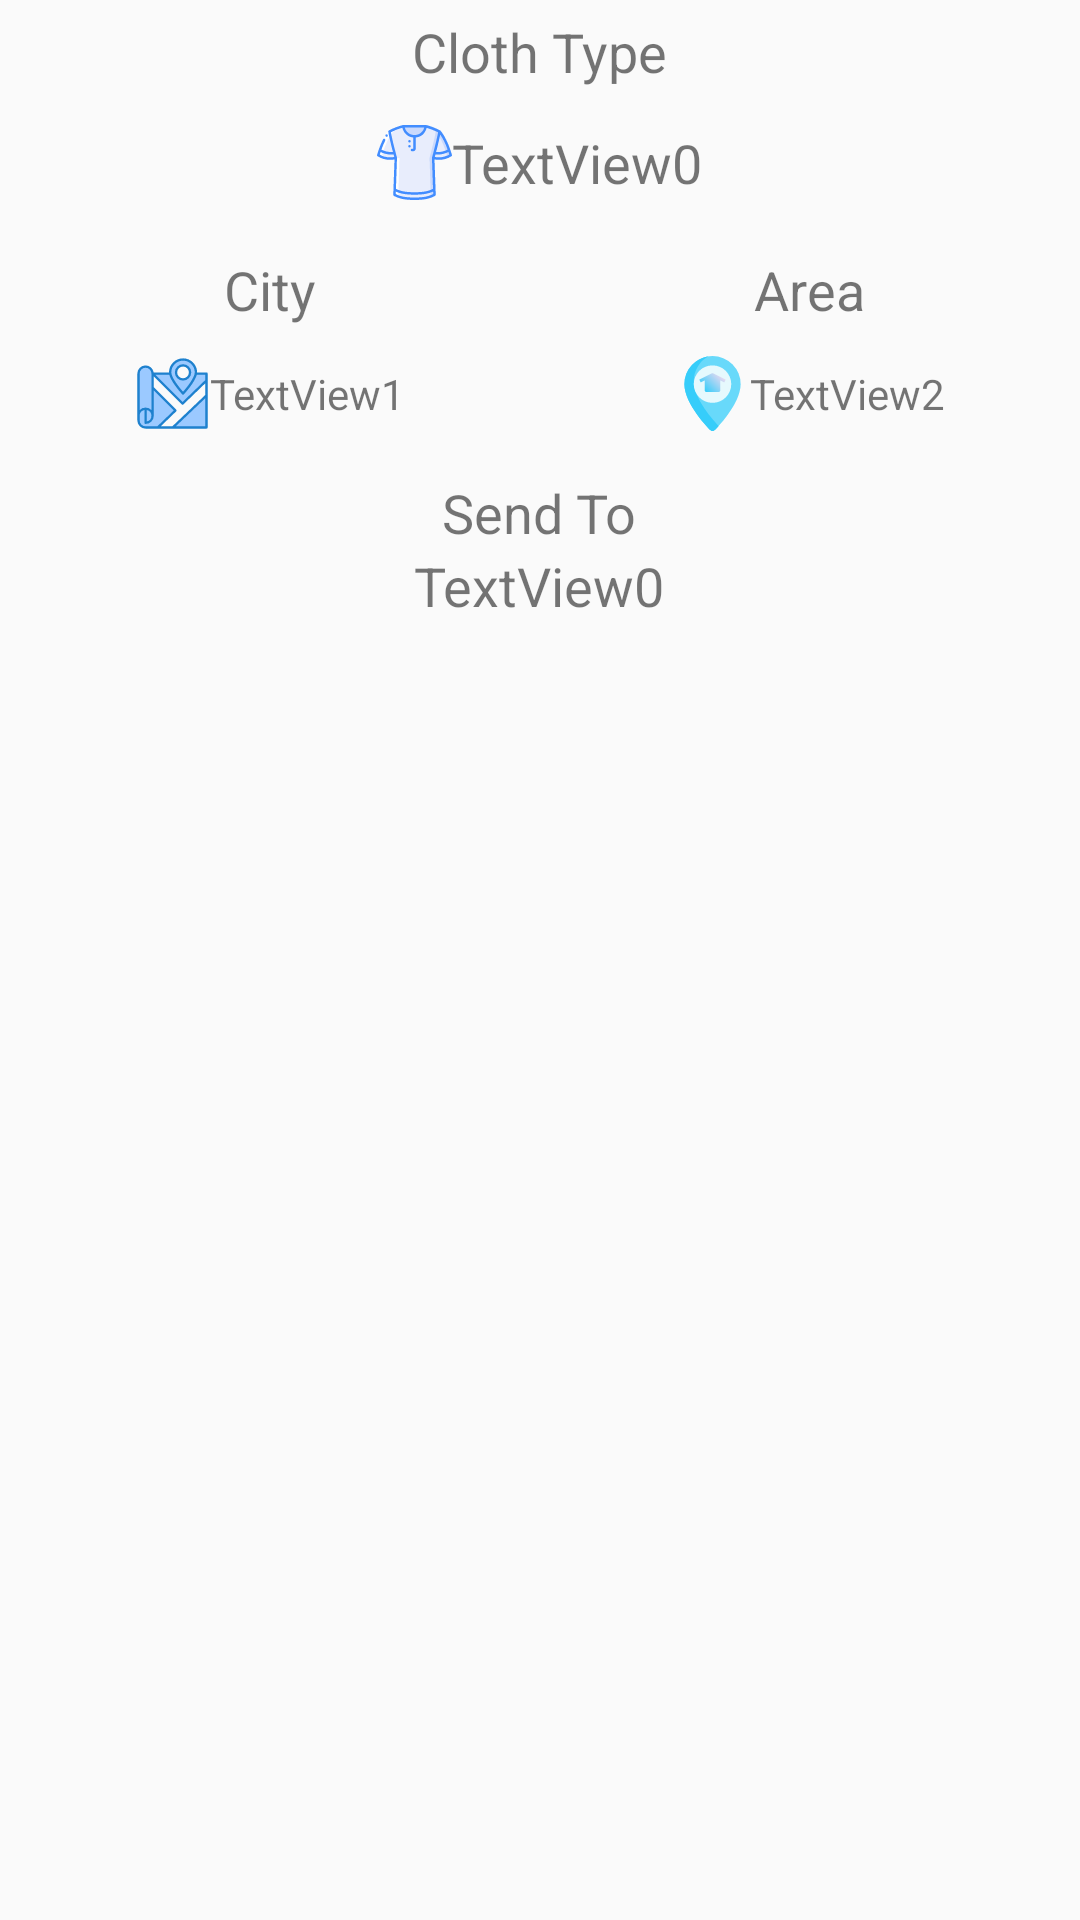

Screen size 1080 × 1920. Icon name, then its center in pixels as [x,y]:
address: [712,393]
map: [172,393]
shirt: [414,162]
